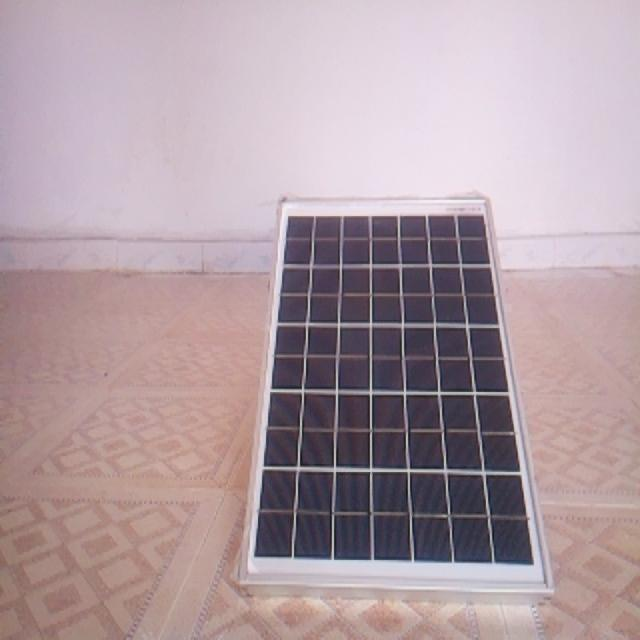Normal Solar Panel: (240, 200, 555, 603)
